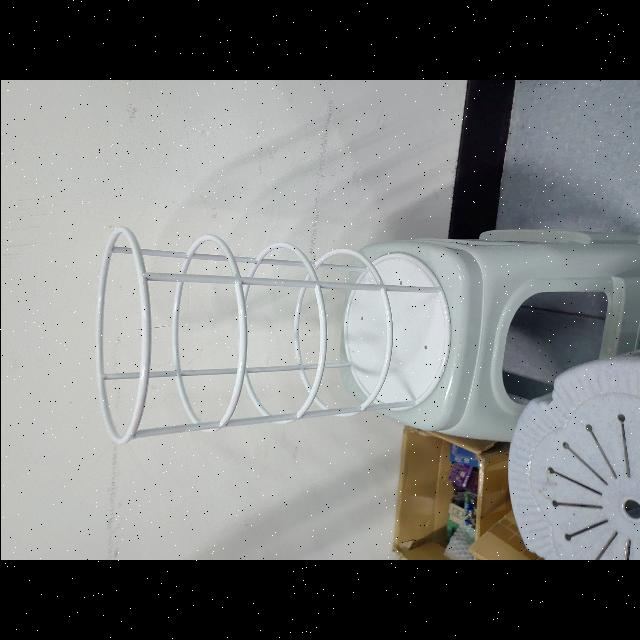S: (90, 222, 450, 448)
